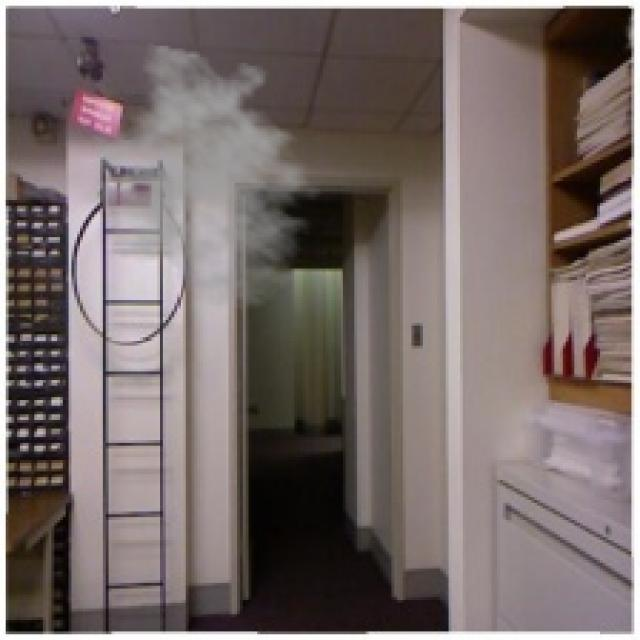smoke: (80, 43, 334, 311)
